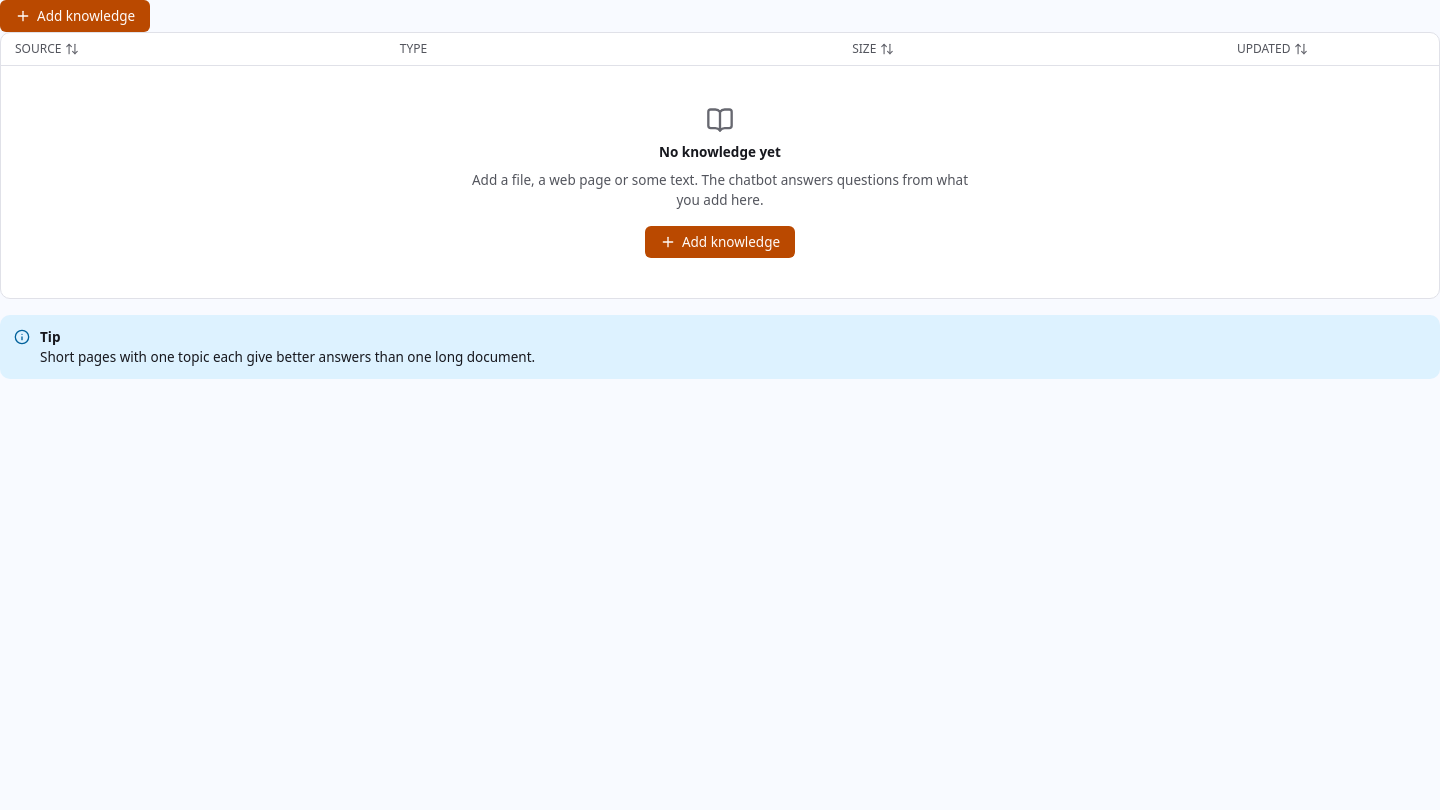
Test case: keeps the add dialog open with the typed text when adding fails
Click the 1st button "Add knowledge". click: (75, 16)
box: top-left (0, 0), bottom-right (150, 32)
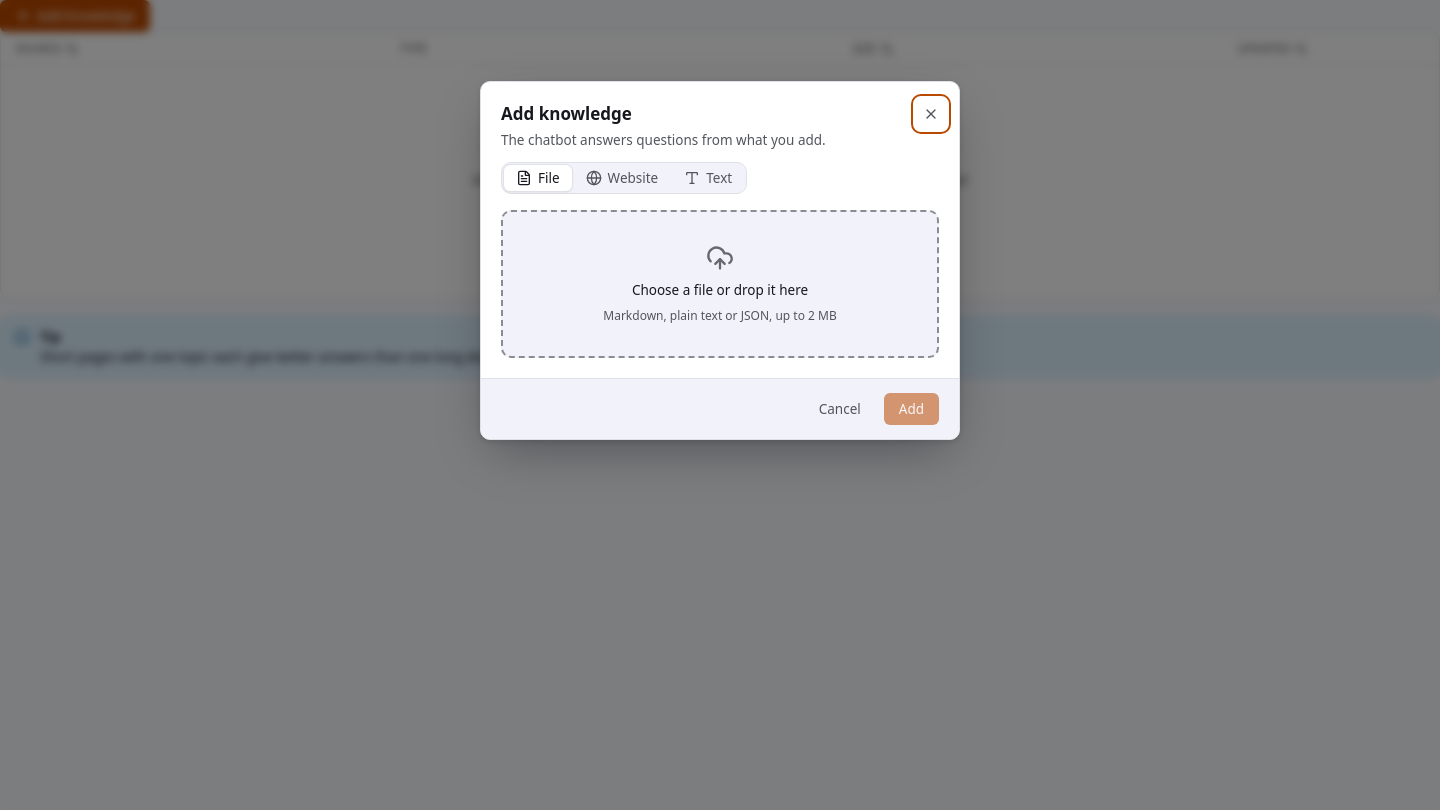
Click the radio button labelled "Text". click: (708, 178)
box: top-left (672, 165), bottom-right (744, 191)
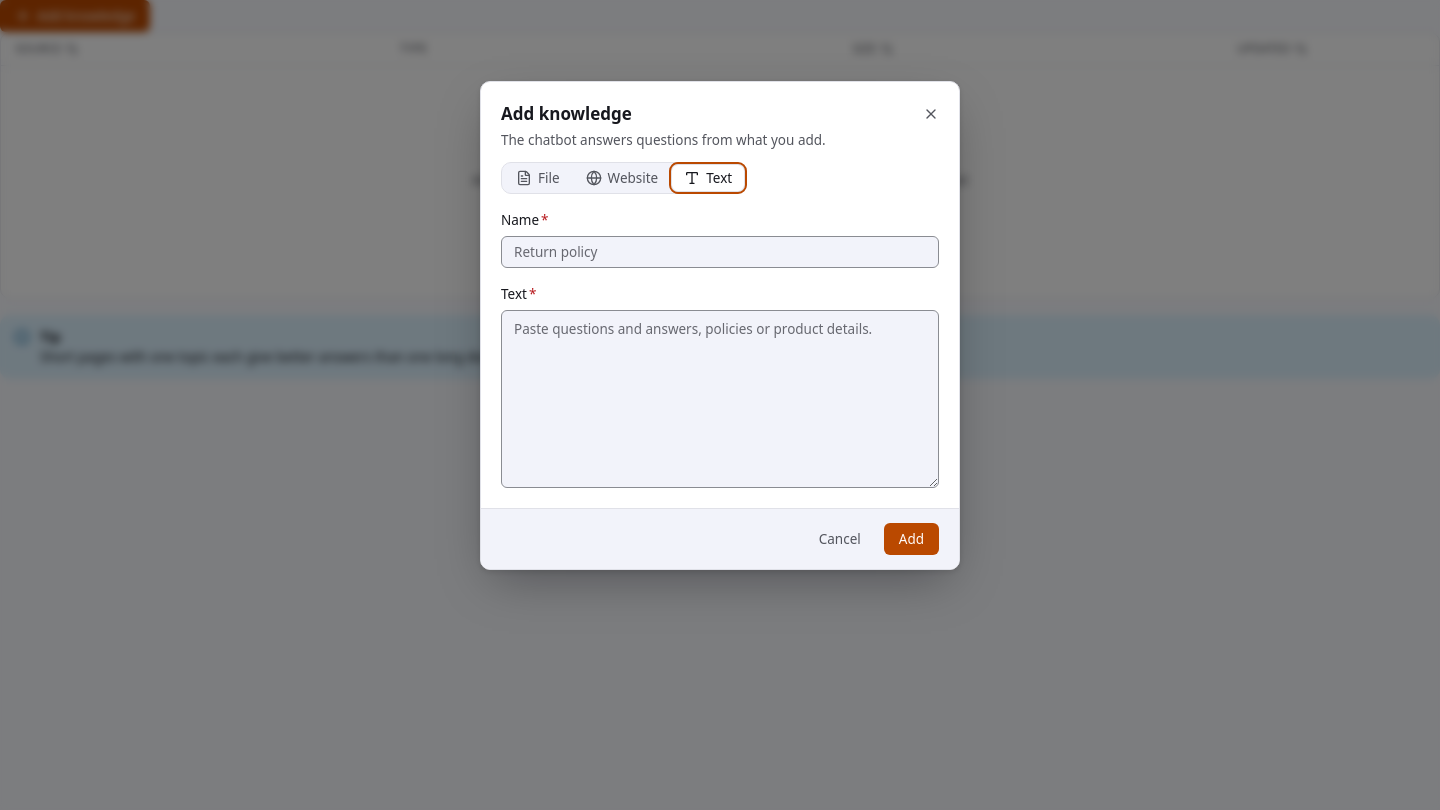
Type "Returns" into the field labelled "Name*". click: (720, 252)
box: top-left (501, 236), bottom-right (939, 268)
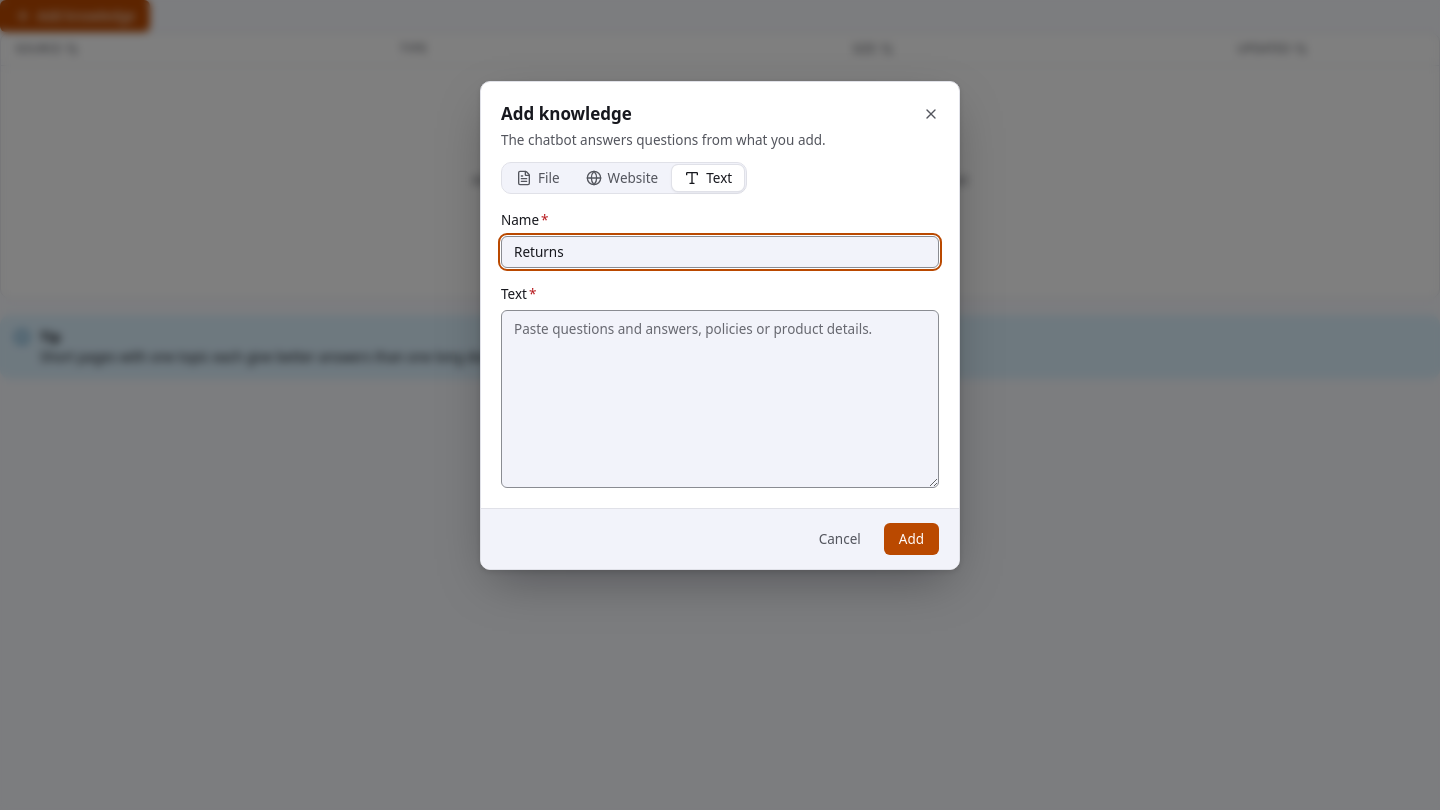
Type "30 days." into the text box labelled "Text*". click: (720, 399)
box: top-left (501, 310), bottom-right (939, 488)
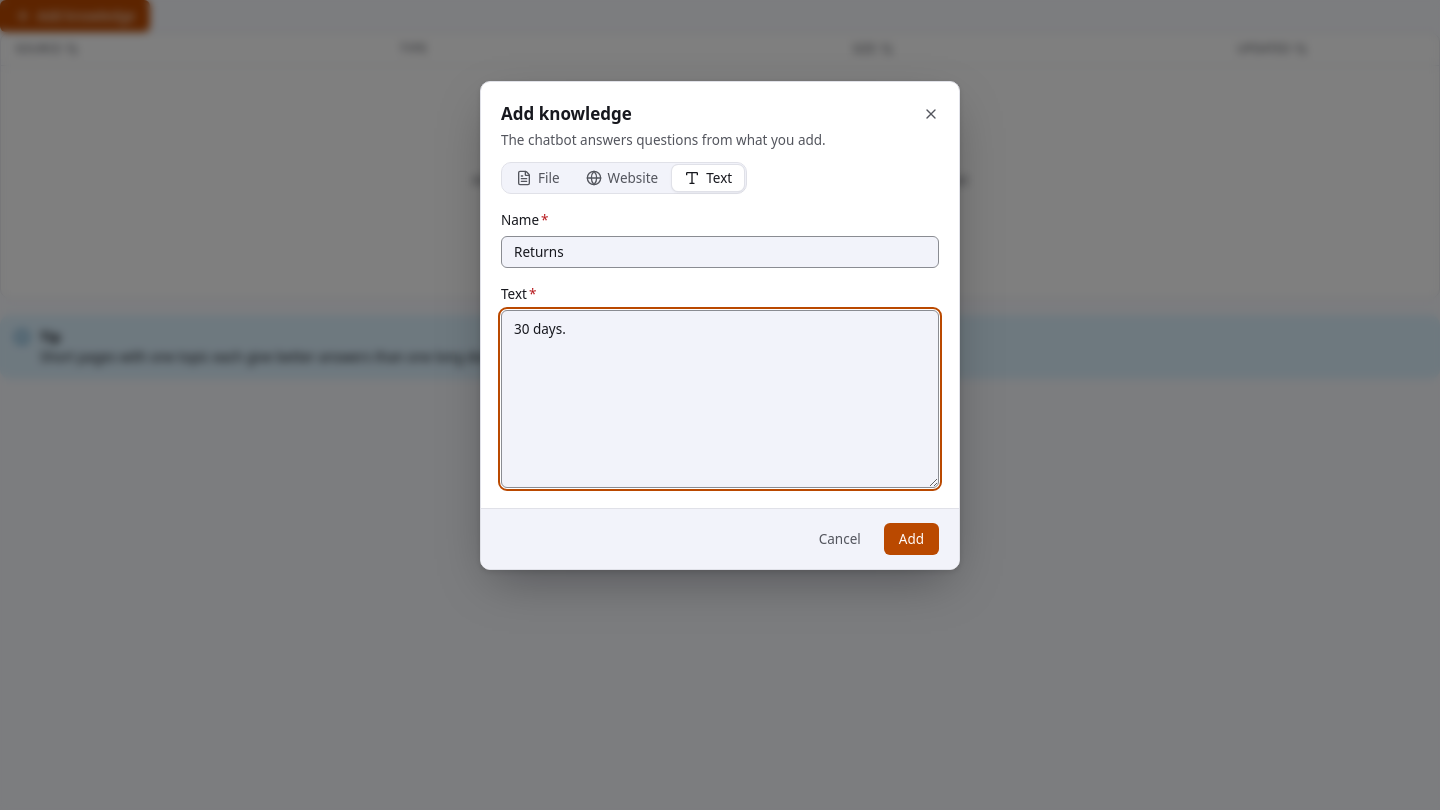
Click the button "Add". click: (911, 539)
box: top-left (884, 523), bottom-right (939, 555)
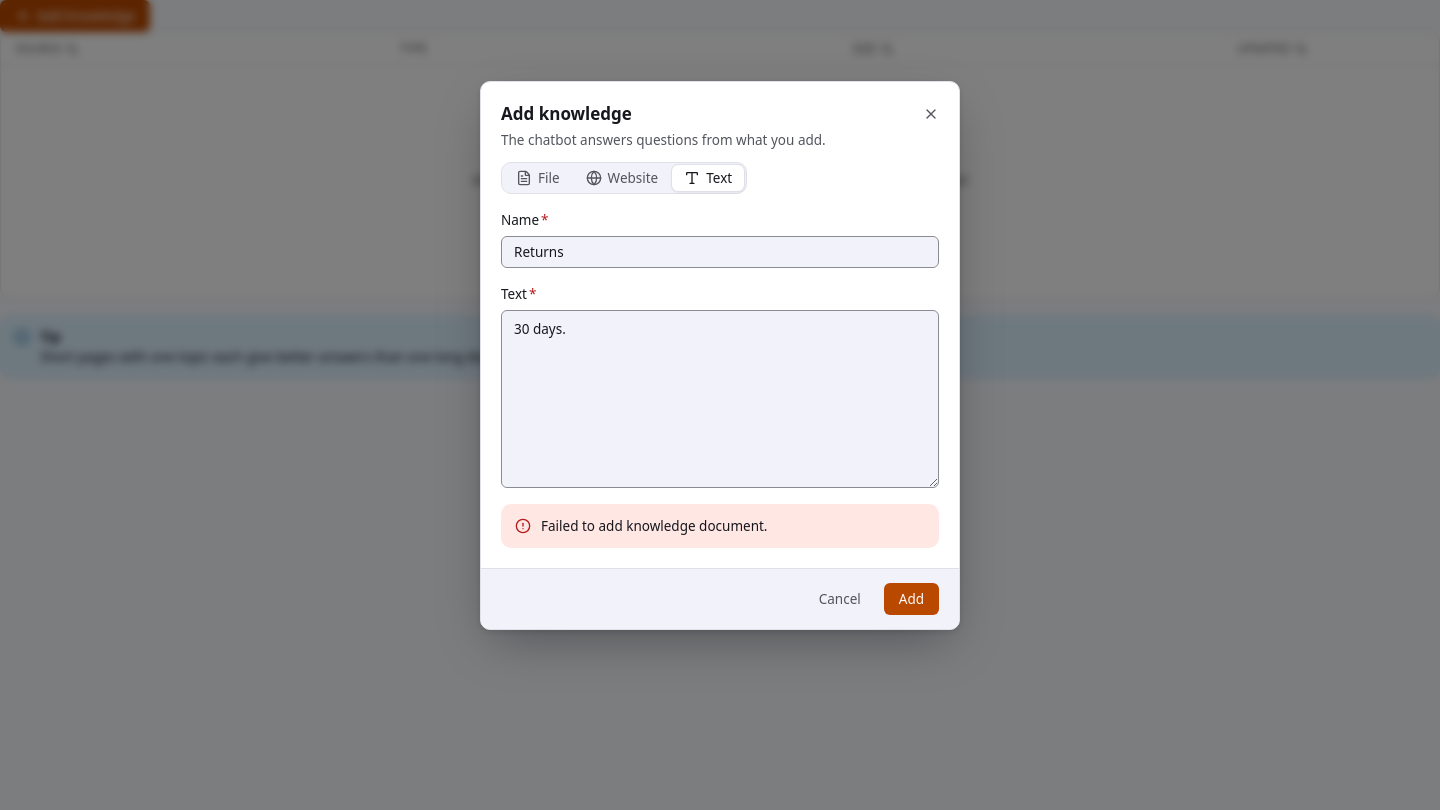
Check: the message "Failed to add knowledge document." is shown, box top-left (501, 504), bottom-right (939, 548)
Click the button "Add". click: (911, 599)
box: top-left (884, 583), bottom-right (939, 615)
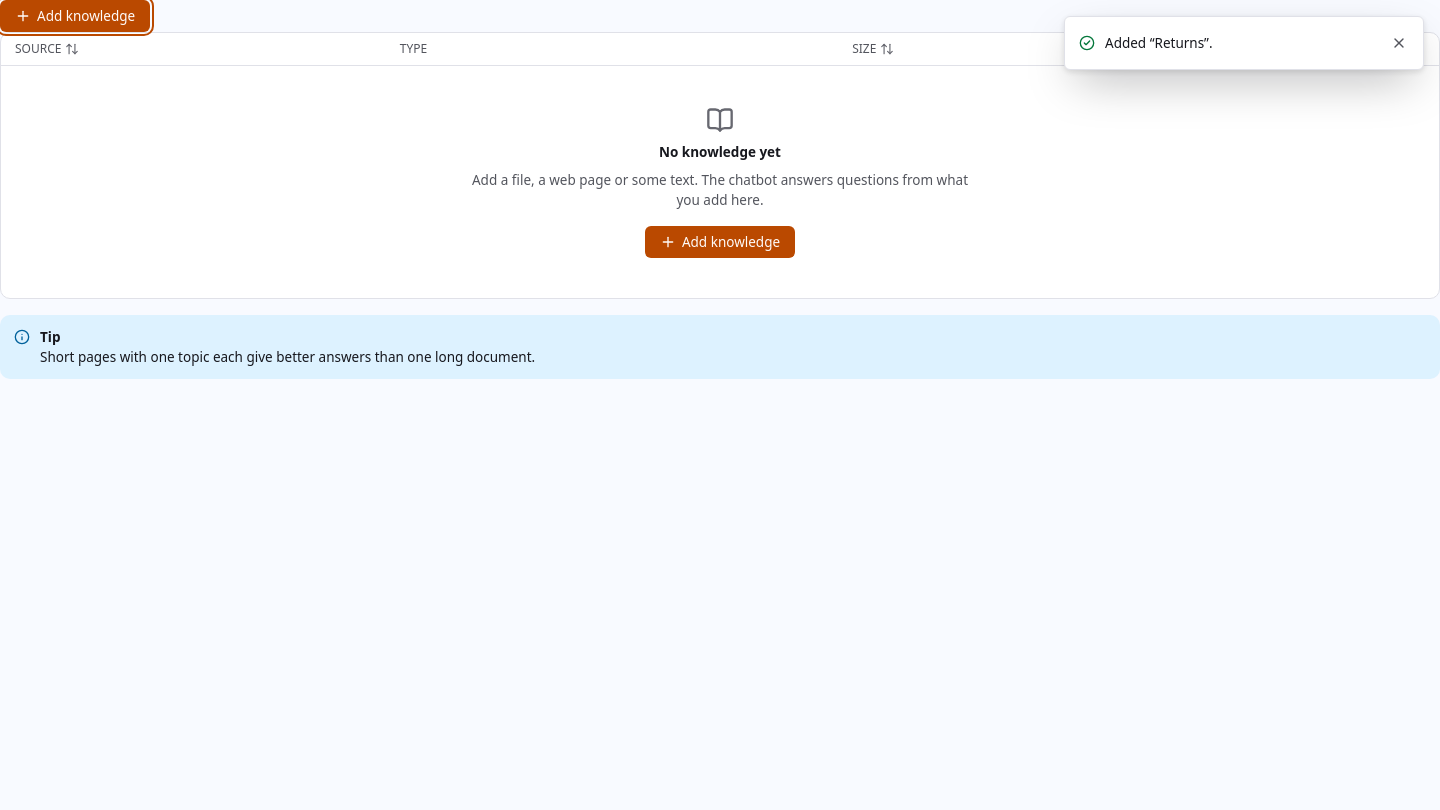
Check: the text "Added “Returns”." is shown, box top-left (1105, 34), bottom-right (1213, 52)
